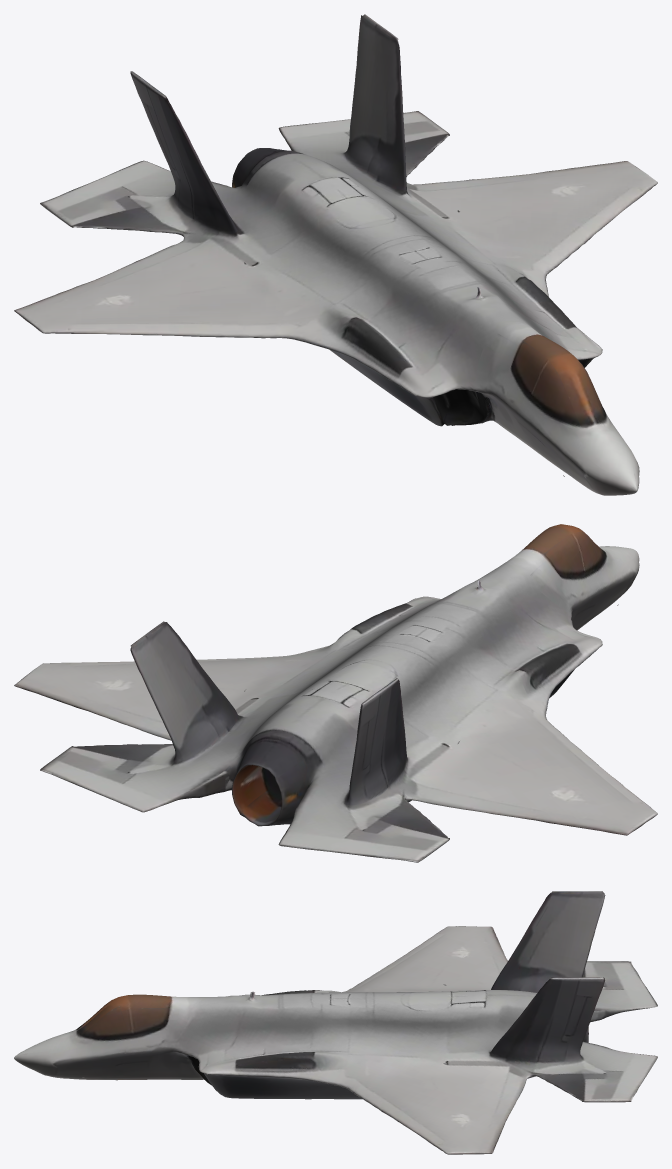
3 renders of one model, top to bottom at view 1: azimuth 30°, elevation 25°; view 2: azimuth 150°, elevation 25°; view 3: azimuth 270°, elevation 25°, orthographic. The views are drawn at different scales.
Parts seen in each view (by area): view 1: Object_2; view 2: Object_2; view 3: Object_2.
Boxes of the visible parts, bbox=[...] form: Object_2: bbox=[14, 14, 657, 495]; Object_2: bbox=[14, 524, 657, 862]; Object_2: bbox=[14, 891, 657, 1154].
Size of the model in its own units: 1.58 by 0.4662 by 1.89.
1 material, 1 textured.
